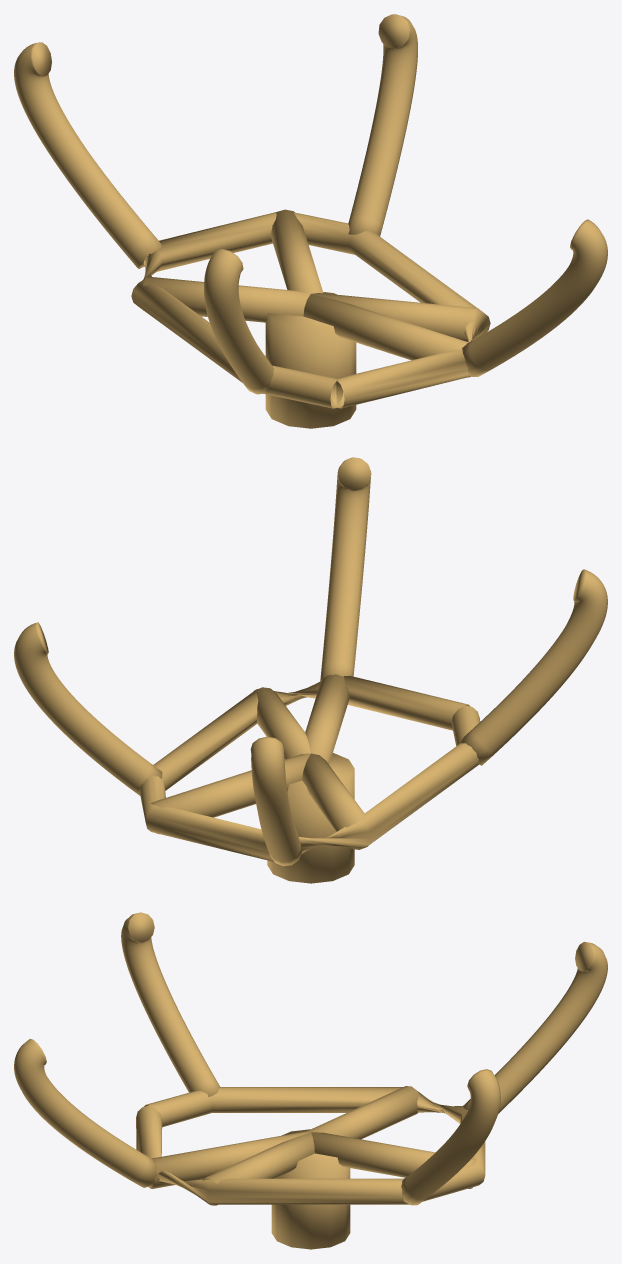
File: stuller-lg-500106810-4-prong.glb
3 views of the same model, one above another, from view 1: azimuth 30°, elevation 25°; view 2: azimuth 150°, elevation 25°; view 3: azimuth 270°, elevation 25° (orthographic). The views are drawn at different scales.
Parts seen in each view (by area): view 1: Metal.241, Metal.247, Metal.246, Metal.249, Metal.240, Metal.248, Metal.245, Metal.244, Metal.242, Metal.243; view 2: Metal.241, Metal.248, Metal.249, Metal.246, Metal.240, Metal.247, Metal.243, Metal.244, Metal.245, Metal.242; view 3: Metal.241, Metal.248, Metal.249, Metal.247, Metal.246, Metal.240, Metal.243, Metal.245, Metal.244, Metal.242.
Boxes of the visible parts, x1,y1,x2,y2 form: Metal.241: [131, 212, 490, 408]; Metal.247: [14, 42, 161, 268]; Metal.246: [348, 14, 417, 236]; Metal.249: [462, 219, 607, 376]; Metal.240: [265, 292, 356, 428]; Metal.248: [204, 249, 273, 394]; Metal.245: [303, 294, 470, 377]; Metal.244: [143, 276, 310, 322]; Metal.242: [312, 293, 478, 341]; Metal.243: [270, 209, 323, 293]; Metal.241: [139, 676, 480, 861]; Metal.248: [459, 569, 607, 765]; Metal.249: [320, 457, 371, 681]; Metal.246: [14, 622, 162, 795]; Metal.240: [267, 753, 354, 883]; Metal.247: [250, 736, 302, 866]; Metal.243: [151, 753, 310, 834]; Metal.244: [302, 753, 368, 849]; Metal.245: [305, 674, 349, 764]; Metal.242: [253, 687, 310, 758]; Metal.241: [136, 1087, 485, 1204]; Metal.248: [121, 912, 219, 1096]; Metal.249: [14, 1039, 157, 1187]; Metal.247: [462, 941, 607, 1113]; Metal.246: [401, 1069, 500, 1205]; Metal.240: [271, 1129, 350, 1249]; Metal.243: [311, 1132, 475, 1188]; Metal.245: [148, 1131, 310, 1188]; Metal.244: [307, 1086, 419, 1139]; Metal.242: [202, 1132, 314, 1205].
Bounding box in the file's own units: 6.27 × 4.06 × 9.04.
